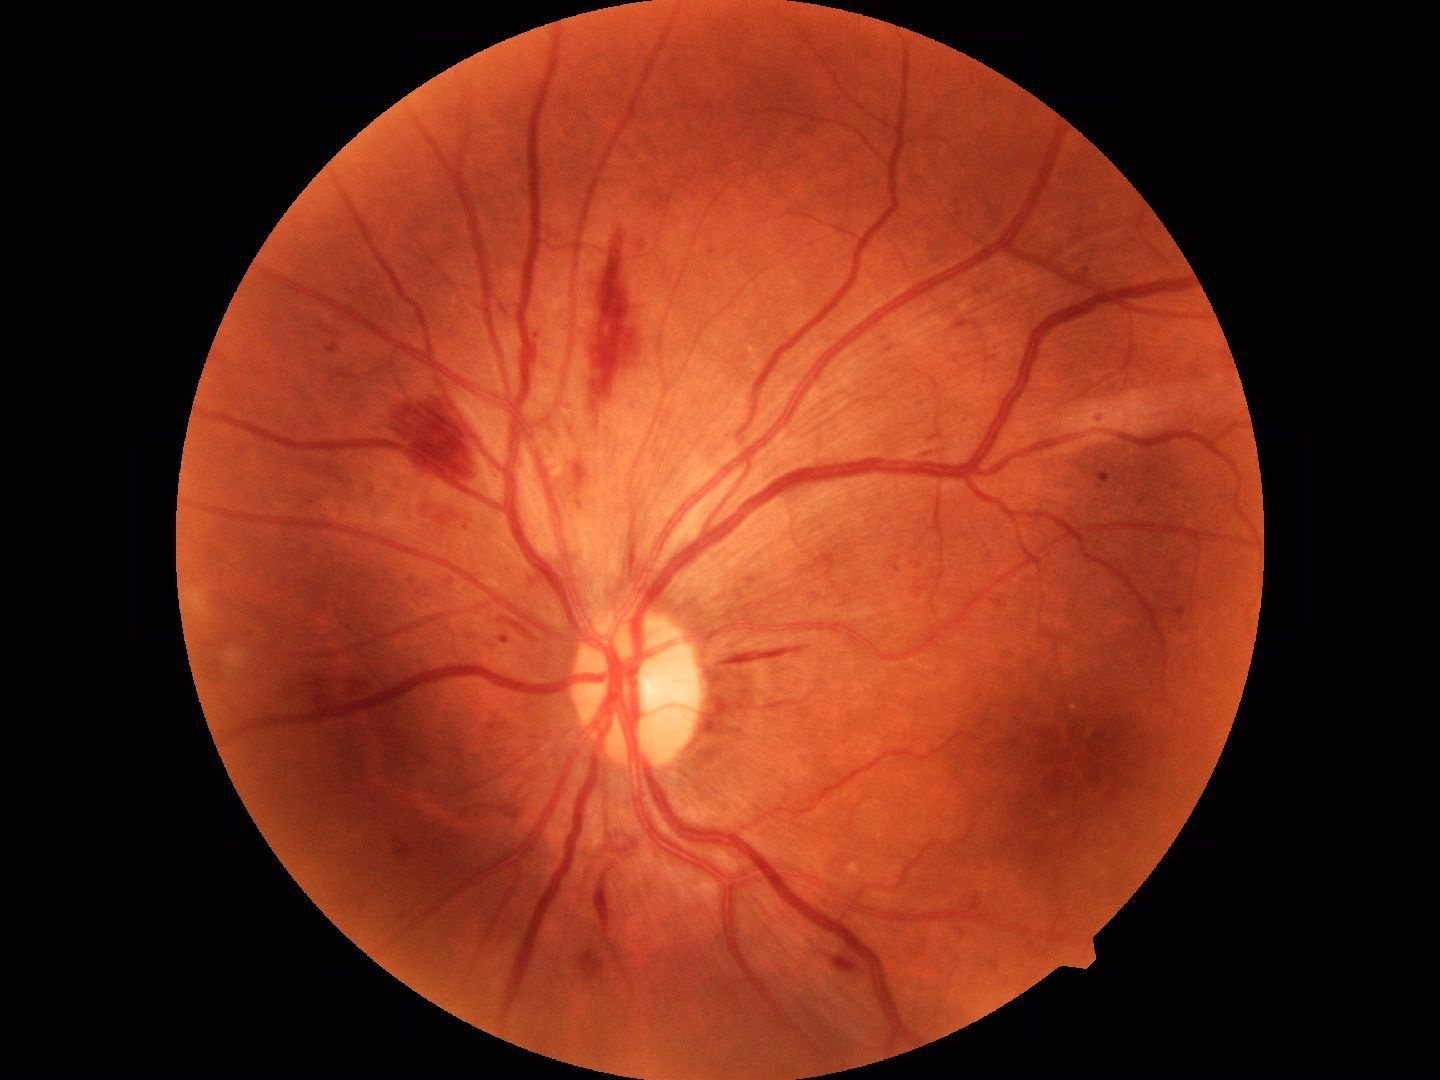Arterioles: (363, 164, 551, 358), (1042, 427, 1219, 608)
Microaneurysms: (384, 379, 495, 490), (590, 239, 642, 419), (582, 866, 635, 992)
Optic-Disc: (554, 615, 709, 748)
Venules: (717, 452, 909, 543)
